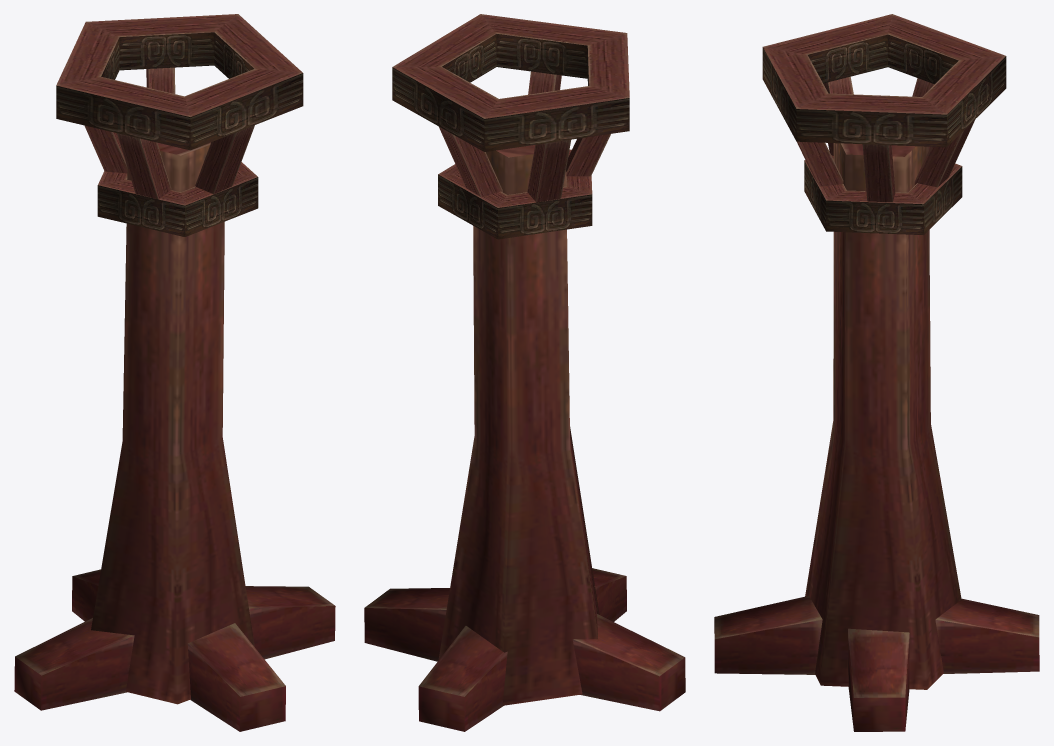
Rendered from environment_Building_bangpai_001_i.FBX.
3 renders of one model, left to right at view 1: azimuth 30°, elevation 25°; view 2: azimuth 150°, elevation 25°; view 3: azimuth 270°, elevation 25°, orthographic.
Parts seen in each view (by area): view 1: environment_Building_bangpai_001_i; view 2: environment_Building_bangpai_001_i; view 3: environment_Building_bangpai_001_i.
Boxes of the visible parts, x1,y1,x2,y2 form: environment_Building_bangpai_001_i: (14,14,335,731); environment_Building_bangpai_001_i: (364,14,685,731); environment_Building_bangpai_001_i: (714,14,1039,731).
Size of the model in its own units: 425 by 412 by 830.
